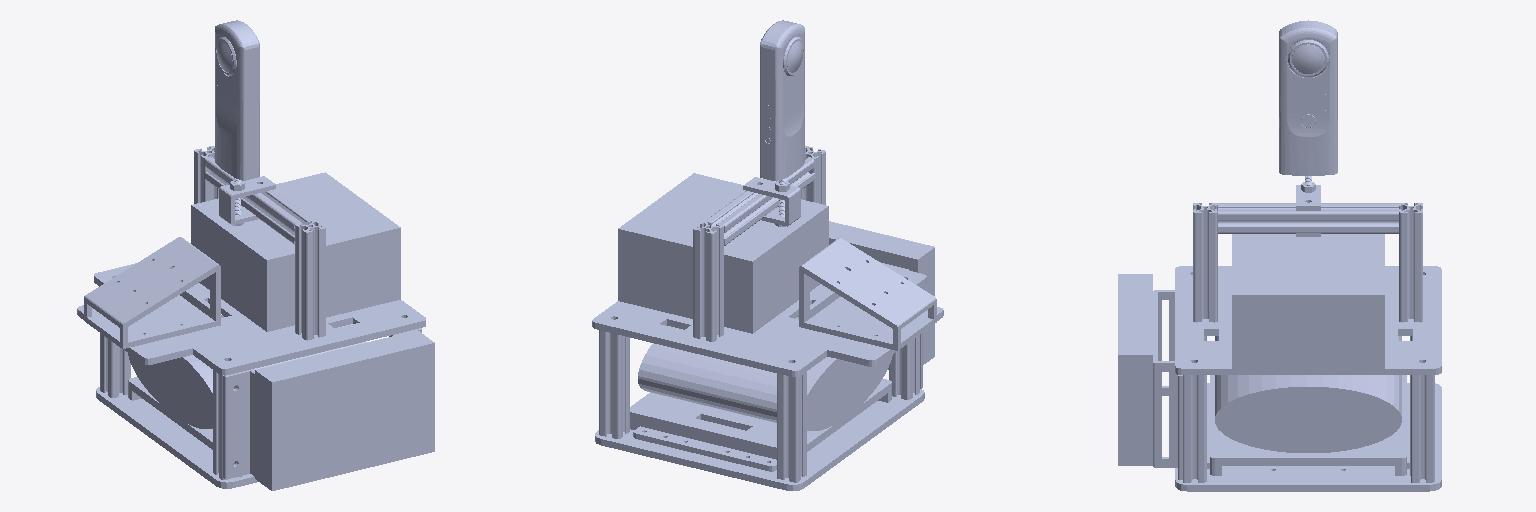
The robot description file, URDF, robot "back_platform":
<?xml version="1.0" encoding="utf-8"?>
<!-- This URDF was automatically created by SolidWorks to URDF Exporter! Originally created by Stephen Brawner (brawner@gmail.com) 
     Commit Version: 1.6.0-4-g7f85cfe  Build Version: 1.6.7995.38578
     For more information, please see http://wiki.ros.org/sw_urdf_exporter -->
<robot
  name="back_platform">
  <link
    name="base_link">
    <inertial>
      <origin
        xyz="0.00635250945240217 1.13458578397634E-06 0.0871174348643237"
        rpy="0 0 0" />
      <mass
        value="3.25808083608894" />
      <inertia
        ixx="0.00692550734039648"
        ixy="-1.33166622387711E-12"
        ixz="-1.17448587841972E-05"
        iyy="0.00748683155664127"
        iyz="-1.07167205682874E-08"
        izz="0.0128115370066176" />
    </inertial>
    <visual>
      <origin
        xyz="0 0 0"
        rpy="0 0 0" />
      <geometry>
        <mesh
          filename="package://tbai_ros_description/back_platform/meshes/base_link.STL" />
      </geometry>
      <material
        name="">
        <color
          rgba="0.792156862745098 0.819607843137255 0.933333333333333 1" />
      </material>
    </visual>
    <collision>
      <origin
        xyz="0 0 0"
        rpy="0 0 0" />
      <geometry>
        <mesh
          filename="package://tbai_ros_description/back_platform/meshes/base_link.STL" />
      </geometry>
    </collision>
  </link>
  <link
    name="camera_link">
    <inertial>
      <origin
        xyz="-1.1195613161194E-07 -1.26868574311553E-05 -0.041268053741871"
        rpy="0 0 0" />
      <mass
        value="0.1358671710581" />
      <inertia
        ixx="0.000186506702465536"
        ixy="4.80971346739502E-10"
        ixz="-2.86507431910387E-10"
        iyy="0.00016828774014945"
        iyz="-1.11354563750735E-08"
        izz="2.95132685389021E-05" />
    </inertial>
    <visual>
      <origin
        xyz="0 0 0"
        rpy="0 0 0" />
      <geometry>
        <mesh
          filename="package://tbai_ros_description/back_platform/meshes/camera_link.STL" />
      </geometry>
      <material
        name="">
        <color
          rgba="0.792156862745098 0.819607843137255 0.933333333333333 1" />
      </material>
    </visual>
    <collision>
      <origin
        xyz="0 0 0"
        rpy="0 0 0" />
      <geometry>
        <mesh
          filename="package://tbai_ros_description/back_platform/meshes/camera_link.STL" />
      </geometry>
    </collision>
  </link>
  <joint
    name="platform2camera"
    type="fixed">
    <origin
      xyz="-0.022 0 0.34261"
      rpy="0 0 0" />
    <parent
      link="base_link" />
    <child
      link="camera_link" />
    <axis
      xyz="0 0 0" />
  </joint>
  <link
    name="lidar_link">
    <inertial>
      <origin
        xyz="-0.0925413033857373 0.000199571080035991 -0.170576837922296"
        rpy="0 0 0" />
      <mass
        value="0.141887448474832" />
      <inertia
        ixx="4.78524766184578E-05"
        ixy="1.0962370569689E-07"
        ixz="-7.62461165868898E-06"
        iyy="4.17978820621662E-05"
        iyz="-2.85023367727814E-07"
        izz="6.60245326449438E-05" />
    </inertial>
    <visual>
      <origin
        xyz="0 0 0"
        rpy="0 0 0" />
      <geometry>
        <mesh
          filename="package://tbai_ros_description/back_platform/meshes/lidar_link.STL" />
      </geometry>
      <material
        name="">
        <color
          rgba="0.752941176470588 0.752941176470588 0.752941176470588 1" />
      </material>
    </visual>
    <collision>
      <origin
        xyz="0 0 0"
        rpy="0 0 0" />
      <geometry>
        <mesh
          filename="package://tbai_ros_description/back_platform/meshes/lidar_link.STL" />
      </geometry>
    </collision>
  </link>
  <joint
    name="platform2lidar"
    type="fixed">
    <origin
      xyz="-0.022 0 0.34261"
      rpy="0 0 0" />
    <parent
      link="base_link" />
    <child
      link="lidar_link" />
    <axis
      xyz="0 0 0" />
  </joint>
</robot>

--- Facts derived from the render (not from the file) ---
The picture shows the robot from 3 angles, left to right: view 1: azimuth 30°, elevation 25°; view 2: azimuth 150°, elevation 25°; view 3: azimuth 270°, elevation 25°; orthographic projection.
Robot: back_platform — 3 links, 2 joints (2 fixed); root link base_link; default pose: every joint at zero.
Links seen in each view (by area): view 1: base_link, camera_link; view 2: base_link, camera_link; view 3: base_link, camera_link.
Boxes of the visible links, bbox=[...] form: base_link: bbox=[77, 146, 434, 490]; camera_link: bbox=[215, 20, 259, 180]; base_link: bbox=[592, 146, 943, 490]; camera_link: bbox=[760, 20, 804, 181]; base_link: bbox=[1118, 176, 1441, 491]; camera_link: bbox=[1279, 20, 1337, 175].
Bounding box of the posed robot: 0.252 × 0.2669 × 0.3689 m (x, y, z).
Meshes: 3 distinct files referenced, 2 mesh visuals loaded (2 binary STL); not drawn: 1 (reference not matched to a file when rendering).
